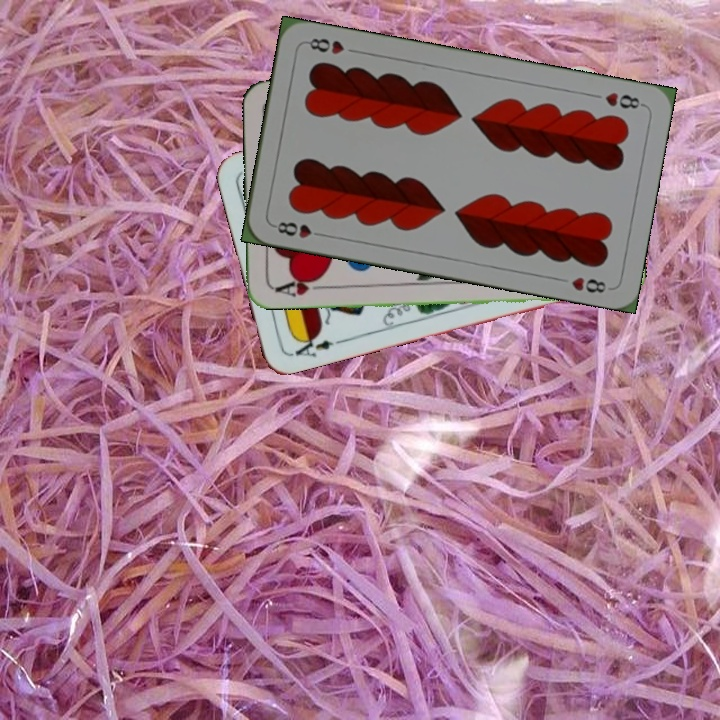EA: (288, 330, 336, 360)
H8: (269, 217, 328, 241), (601, 88, 647, 112)
HA: (271, 273, 329, 299)
